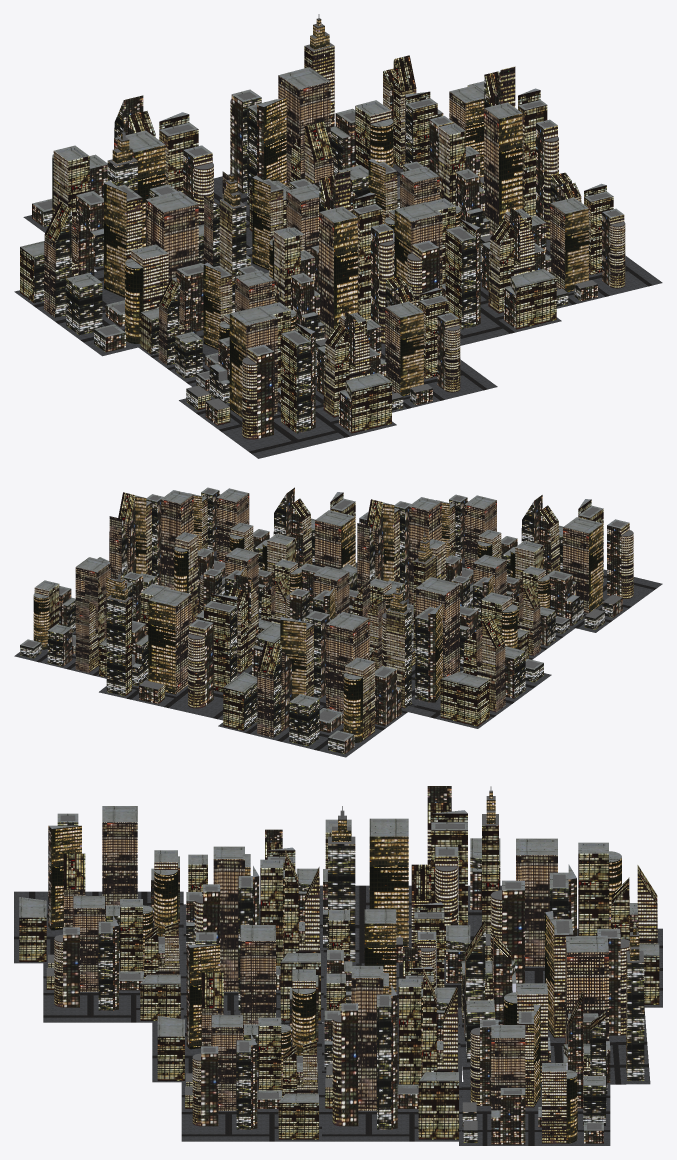
The model's file is night.glb.
The picture shows the model from 3 angles, top to bottom: view 1: azimuth 30°, elevation 25°; view 2: azimuth 150°, elevation 25°; view 3: azimuth 270°, elevation 25°; orthographic projection. The views are drawn at different scales.
Parts seen in each view (by area): view 1: Material3 (×9), Material2; view 2: Material3 (×9), Material2; view 3: Material3 (×9), Material2.
Part boxes in pixels (<box>): Material3 (×9): <box>14,14,662,458</box>; Material2: <box>53,46,625,439</box>; Material3 (×9): <box>14,487,662,757</box>; Material2: <box>34,498,633,740</box>; Material3 (×9): <box>14,786,662,1145</box>; Material2: <box>54,828,657,1143</box>.
Bounding box in the file's own units: 1013 × 276 × 1068.
12 materials, 11 textured.
